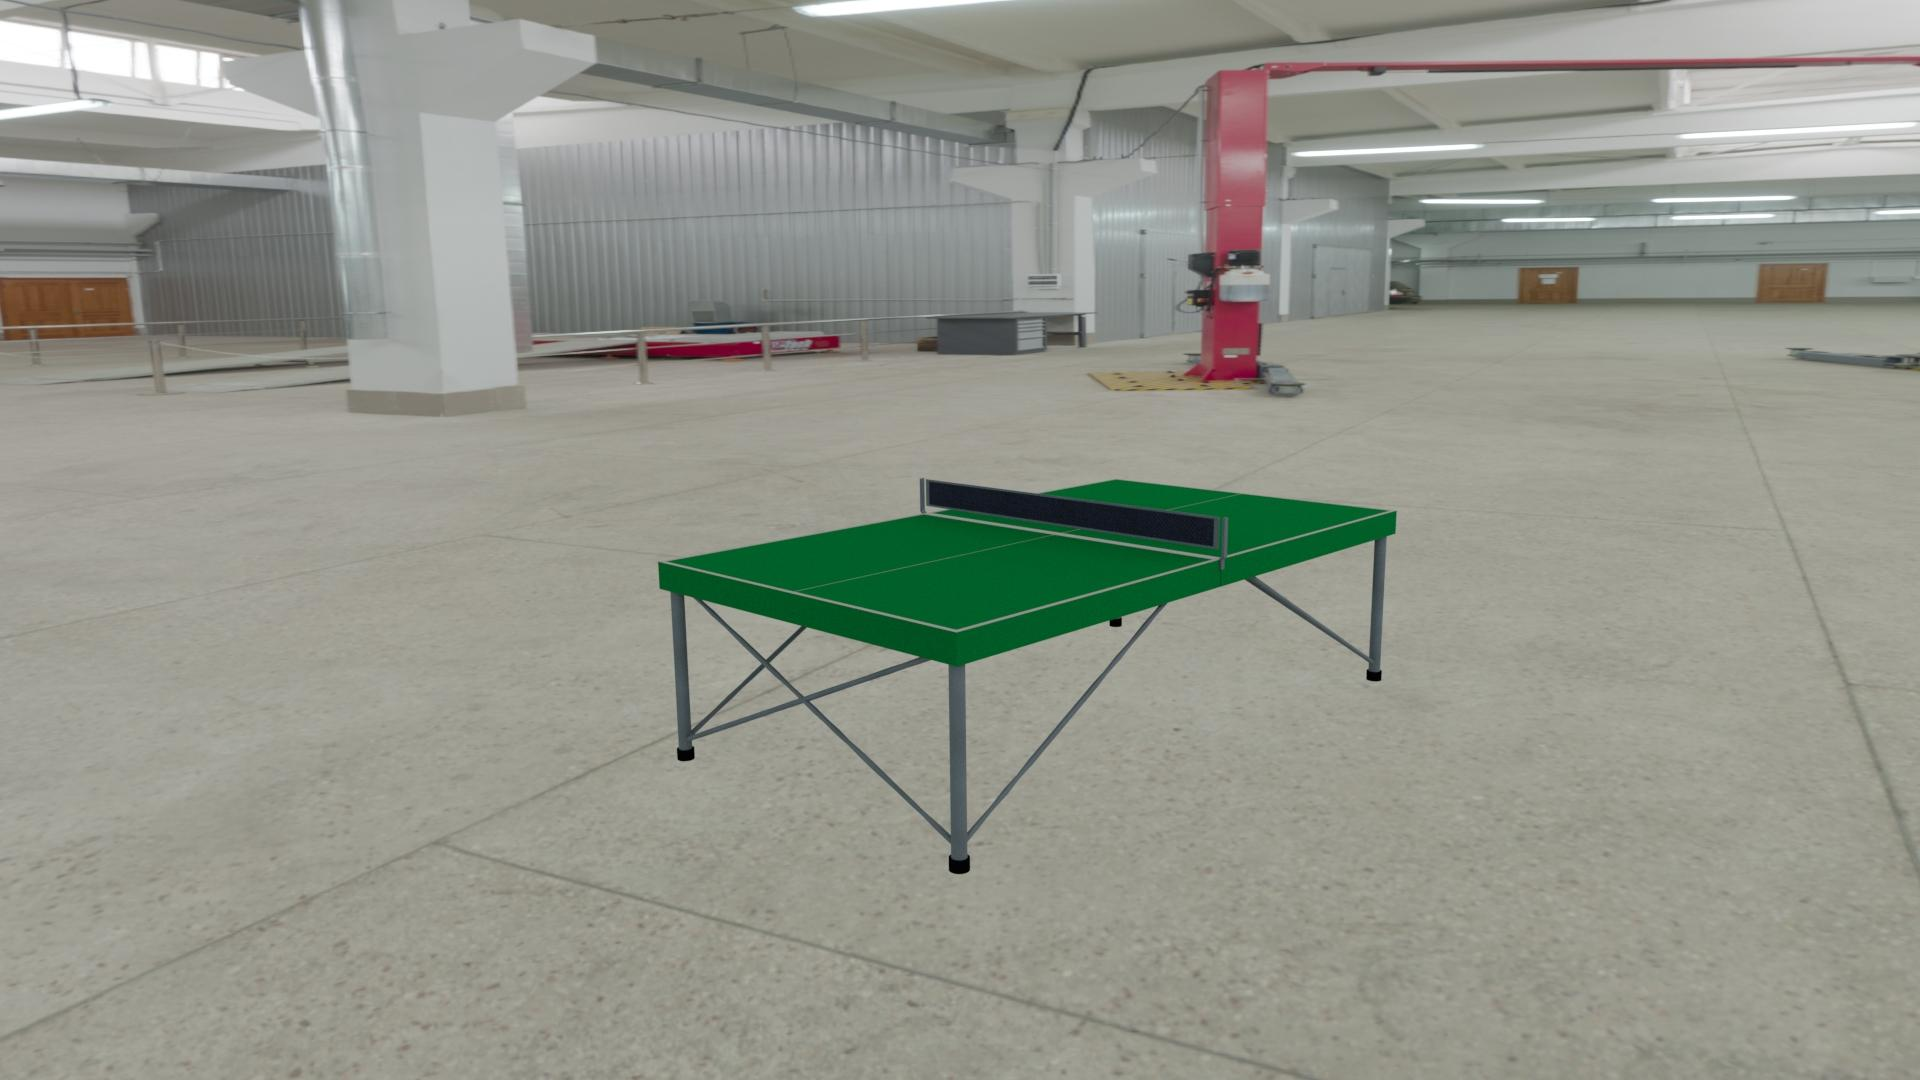table: (666, 480, 1390, 630)
